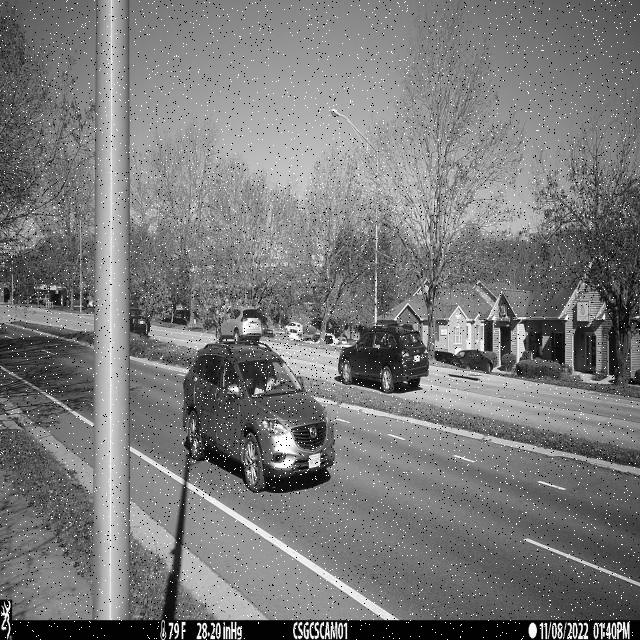SUV: (182, 339, 335, 494)
